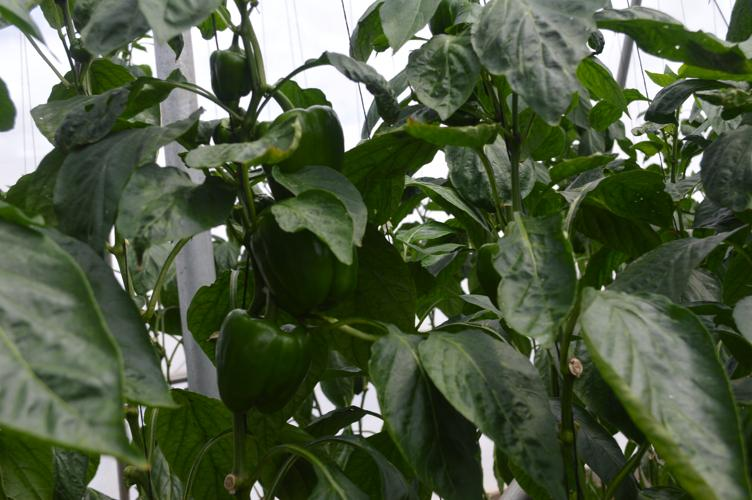BellPepper: (248, 210, 362, 311), (213, 313, 318, 416), (266, 106, 343, 176), (204, 51, 254, 112), (467, 243, 511, 308)
